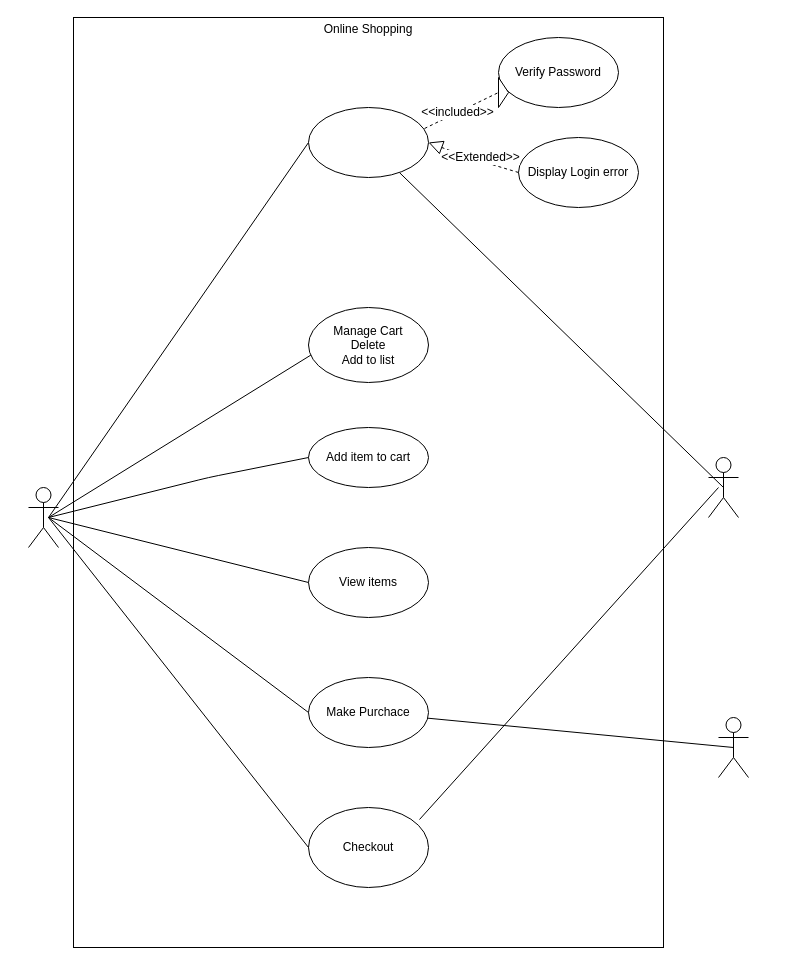
Image size: 796x965. Some labels were removed from this diagram. Each missing label, with the centre of its shape:
"Customer" goes at point (43, 517).
"Login" goes at point (368, 142).
"OnLine store" goes at point (723, 487).
"Payment Service" goes at point (733, 747).
